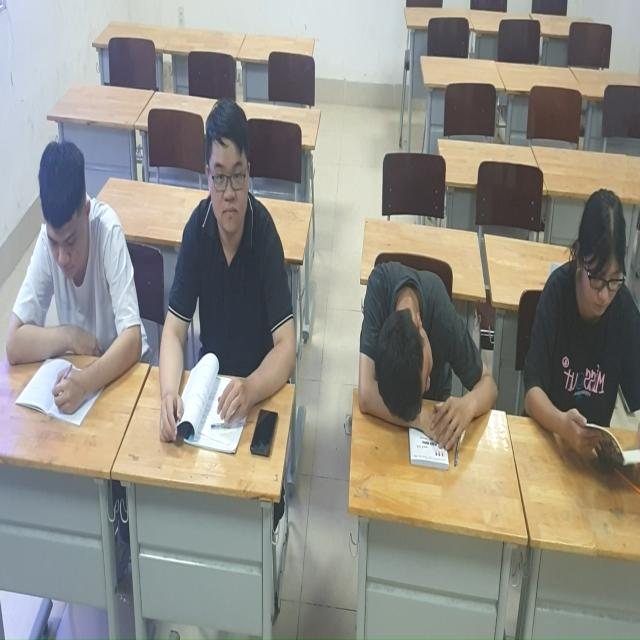read: (152, 111, 317, 455), (8, 116, 146, 427), (528, 160, 640, 518)
sleep: (359, 232, 503, 473)
